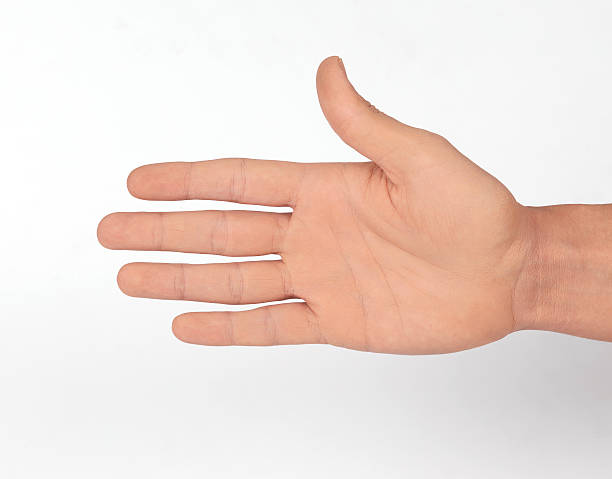non-diseased: (115, 54, 522, 381)
